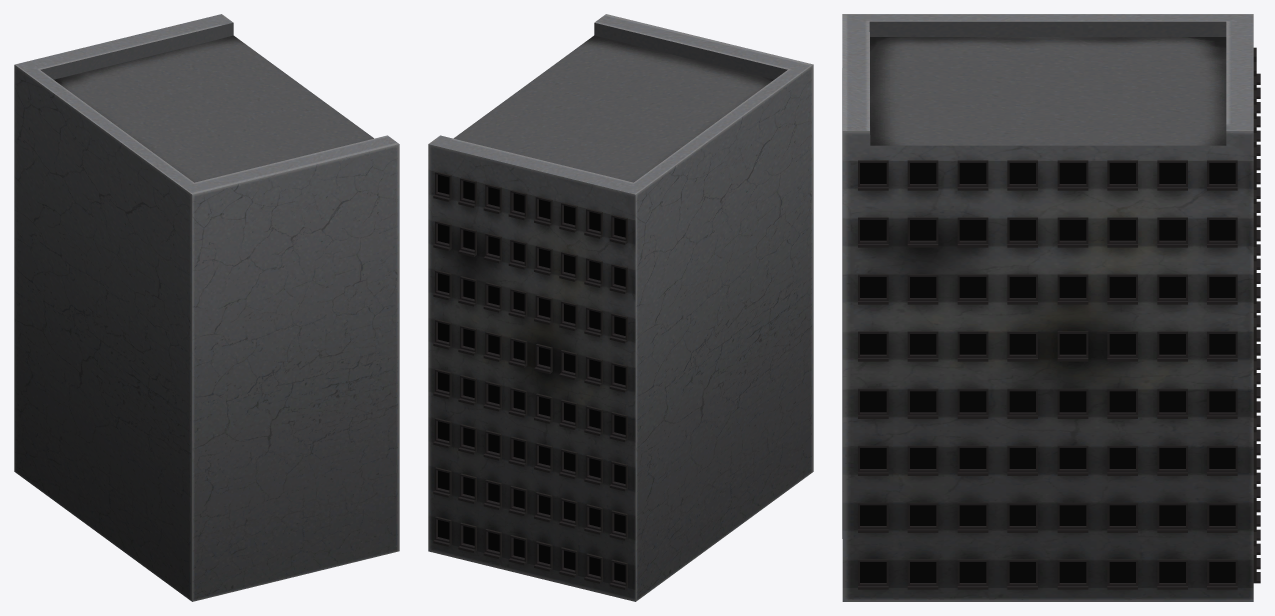
The model's file is Finale_Skyscraper_Right.fbx.
The picture shows the model from 3 angles, left to right: view 1: azimuth 30°, elevation 25°; view 2: azimuth 150°, elevation 25°; view 3: azimuth 270°, elevation 25°; orthographic projection. The views are drawn at different scales.
Visible parts, largest first — view 1: Finale_Skyscraper_Right; view 2: Finale_Skyscraper_Right; view 3: Finale_Skyscraper_Right.
Part boxes in pixels (x1=…): Finale_Skyscraper_Right: x1=14, y1=14, x2=399, y2=601; Finale_Skyscraper_Right: x1=428, y1=14, x2=813, y2=601; Finale_Skyscraper_Right: x1=842, y1=14, x2=1260, y2=601.
Size of the model in its own units: 10.83 by 19.99 by 16.09.
2 materials, 2 textured.
